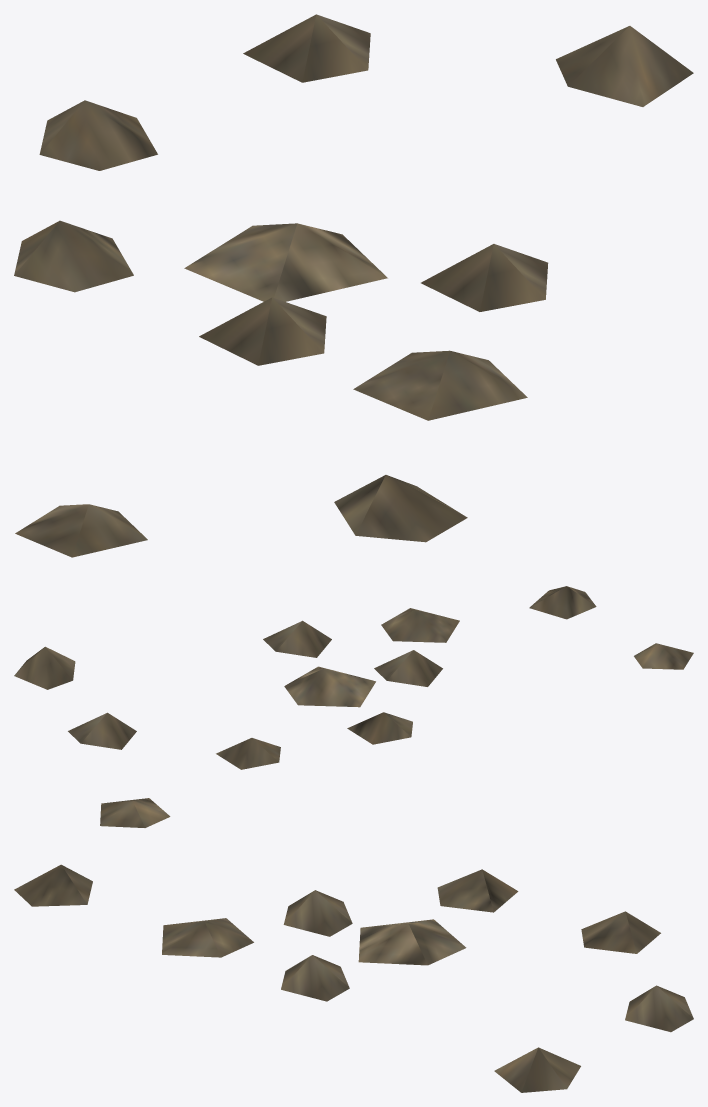
Rendered from rock_gfield3.glb.
3 views of the same model, one above another, from view 1: azimuth 30°, elevation 25°; view 2: azimuth 150°, elevation 25°; view 3: azimuth 270°, elevation 25° (orthographic). The views are drawn at different scales.
Parts seen in each view (by area): view 1: Rock_GField1; view 2: Rock_GField1; view 3: Rock_GField1.
Part boxes in pixels (bbox=[...]): Rock_GField1: bbox=[14, 14, 693, 557]; Rock_GField1: bbox=[14, 586, 693, 769]; Rock_GField1: bbox=[14, 798, 693, 1092].
Bounding box in the file's own units: 21.58 × 1.08 × 21.03.
1 material, 1 textured.
